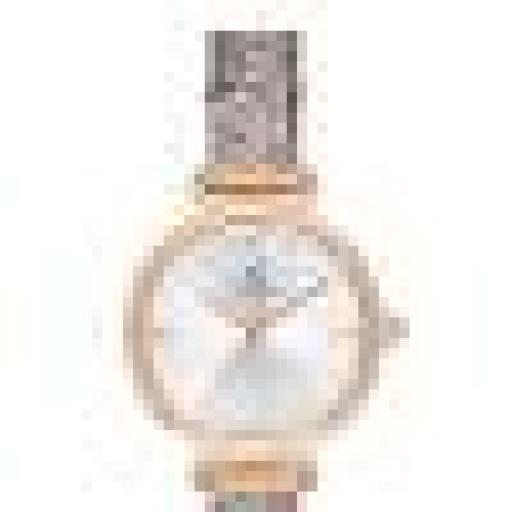KolSaati: (48, 26, 459, 504)
